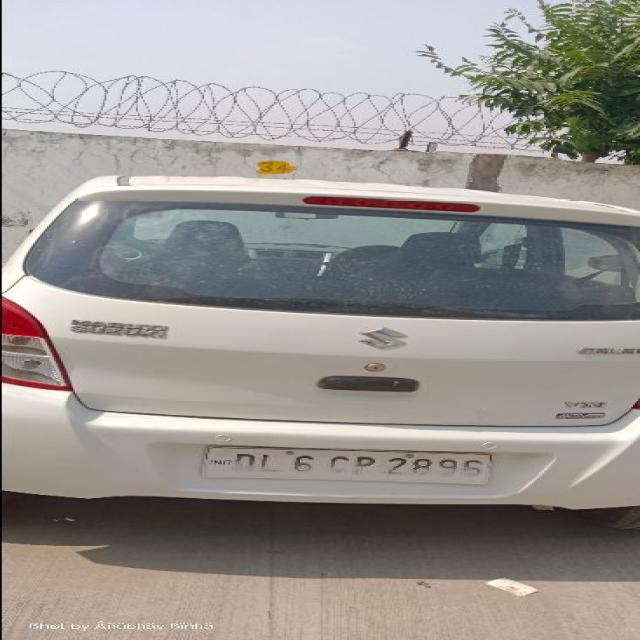license_plate: (197, 444, 494, 484)
